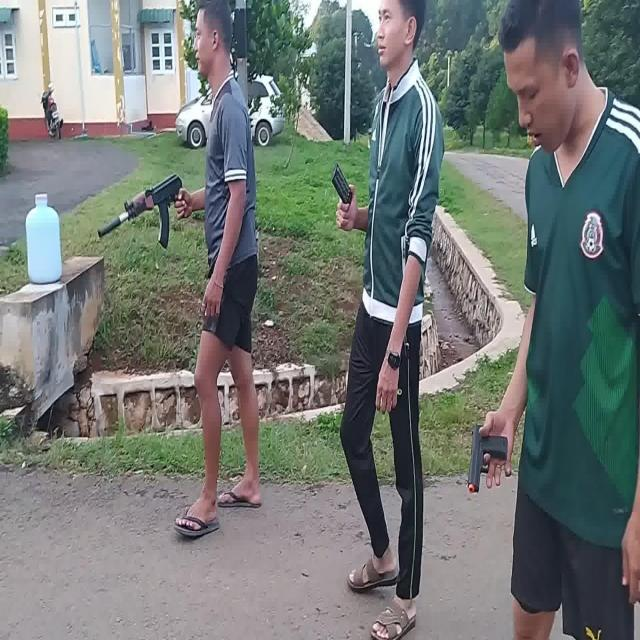gun: (97, 174, 191, 248), (467, 426, 508, 492)
